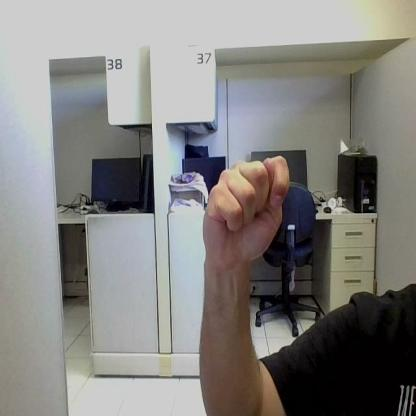T: (204, 157, 288, 267)
